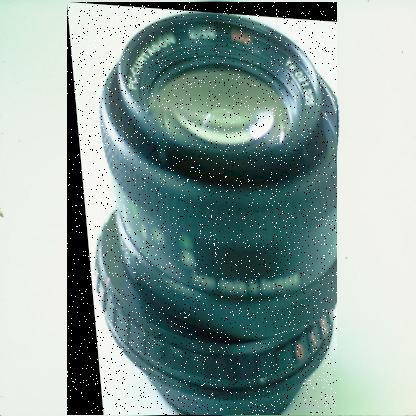Camera: (68, 3, 339, 416)
